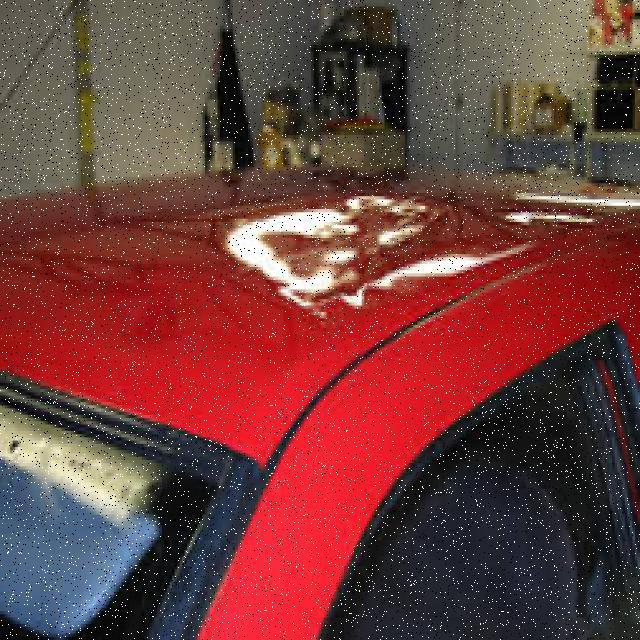car damage: (0, 167, 529, 515)
